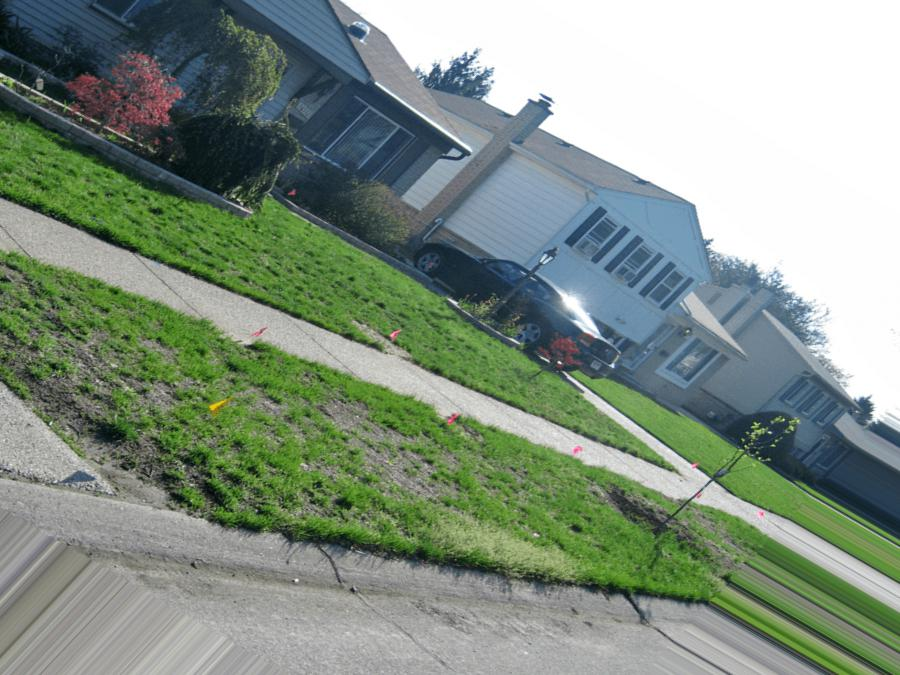patch: (382, 446, 421, 489), (344, 411, 372, 436)
